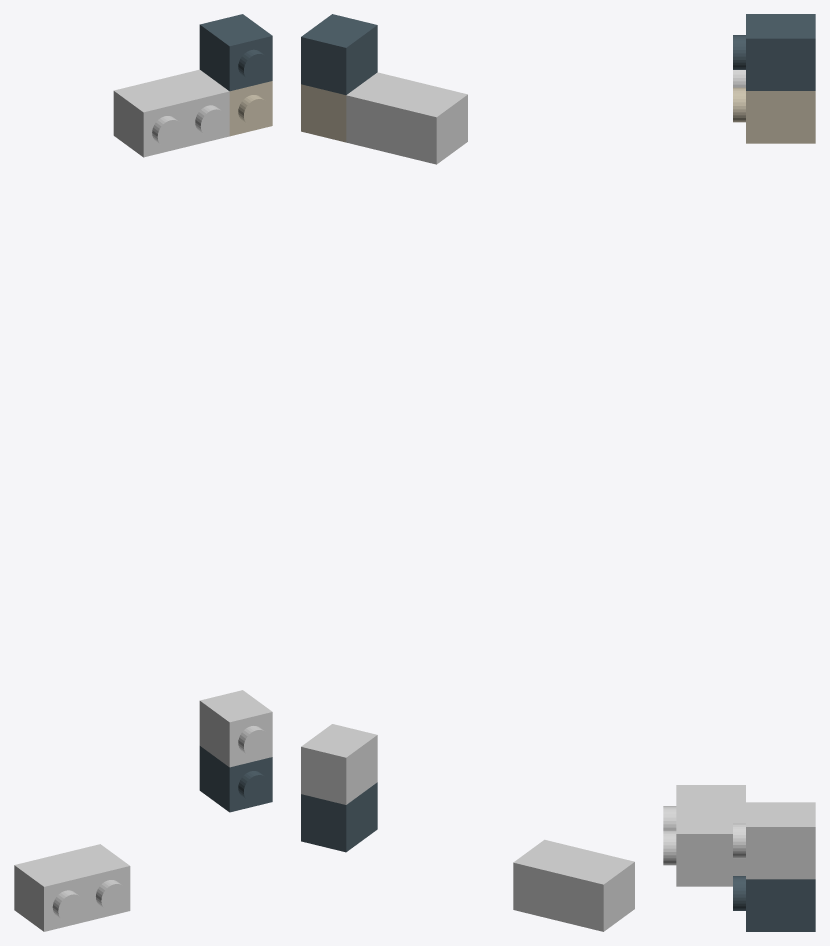
Rendered from current.glb.
3 renders of one model, left to right at view 1: azimuth 30°, elevation 25°; view 2: azimuth 150°, elevation 25°; view 3: azimuth 270°, elevation 25°, orthographic. The views are drawn at different scales.
Parts seen in each view (by area): view 1: world; view 2: world; view 3: world.
Boxes of the visible parts, x1=… form: world: x1=14, y1=14, x2=272, y2=931; world: x1=301, y1=14, x2=634, y2=931; world: x1=663, y1=14, x2=815, y2=931.
Size of the model in its own units: 48 by 144 by 21.
